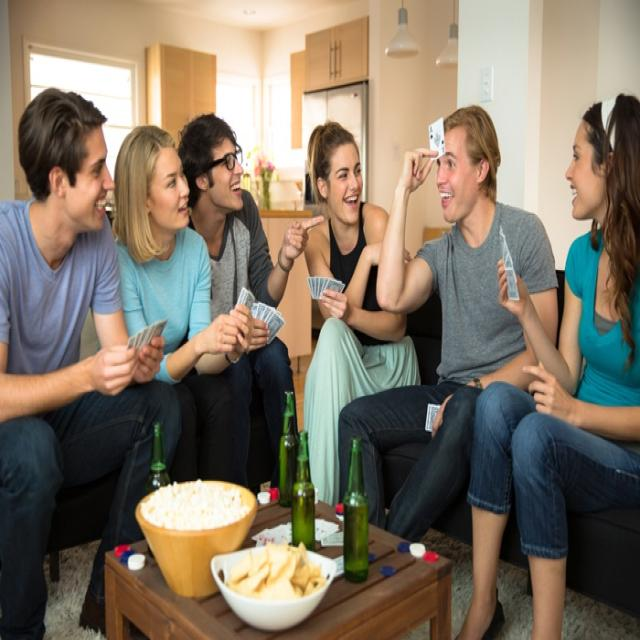body: (0, 82, 186, 639), (334, 102, 560, 550), (456, 87, 638, 638), (176, 106, 324, 492), (112, 122, 254, 482), (301, 119, 422, 510)
